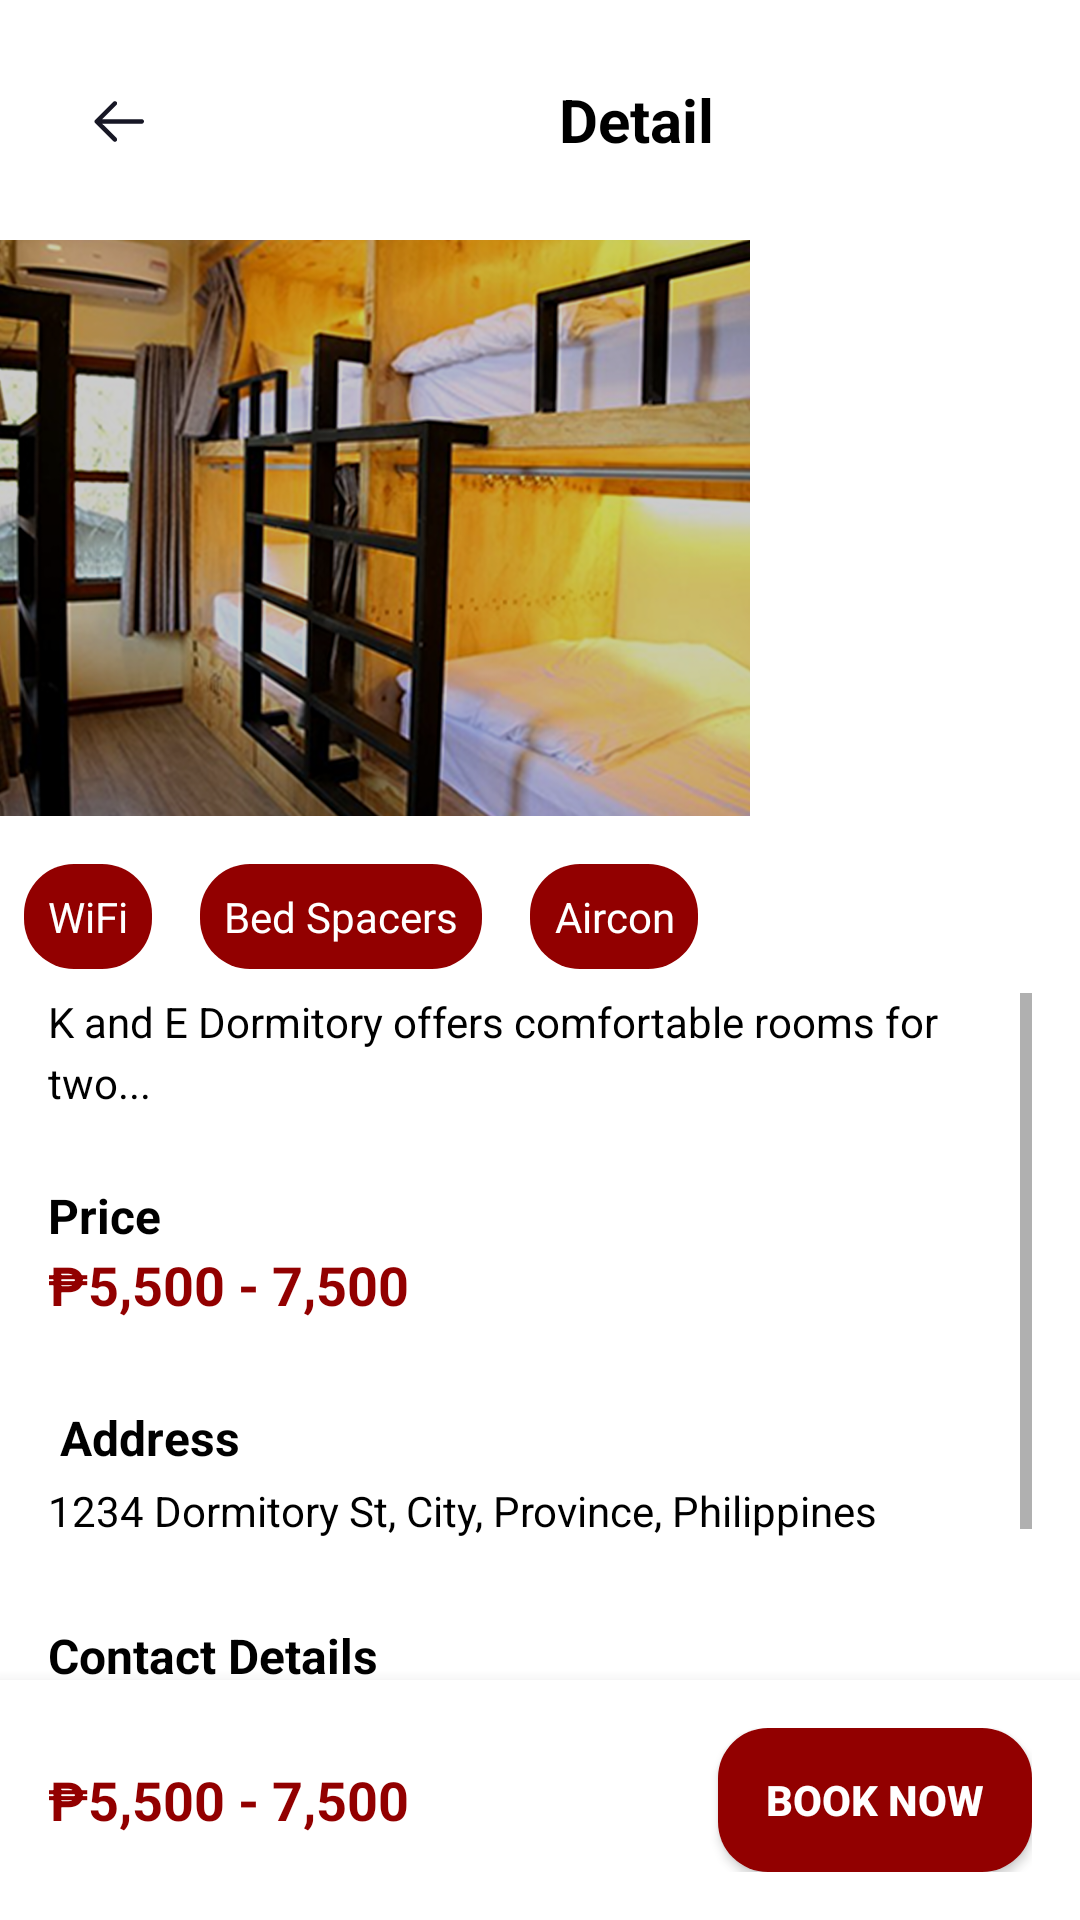

Icon click points for this 1080 × 1920 phone screenshot, format [x,y]:
Back Button: [119,121]
